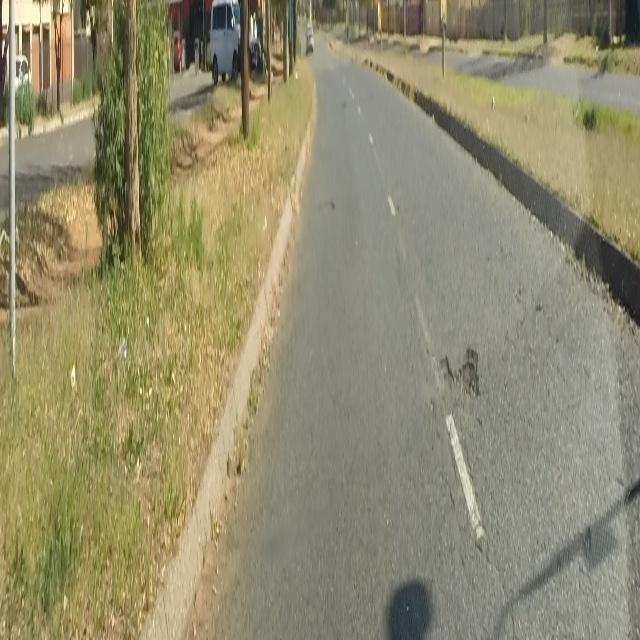pothole: (438, 338, 484, 411)
